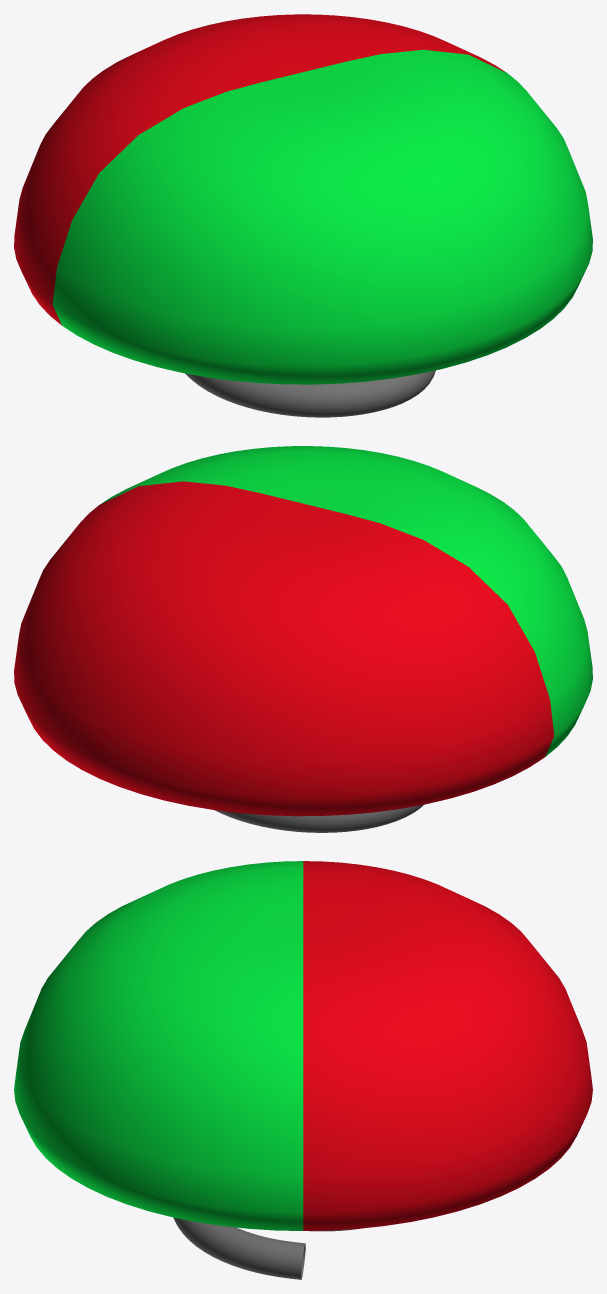
The model's file is spring.fbx.
3 views of the same model, one above another, from view 1: azimuth 30°, elevation 25°; view 2: azimuth 150°, elevation 25°; view 3: azimuth 270°, elevation 25° (orthographic).
Visible parts, largest first — view 1: Cylinder; view 2: Cylinder; view 3: Cylinder.
Part boxes in pixels (x1,y1,x2,y2): Cylinder: [14, 14, 592, 417]; Cylinder: [14, 446, 592, 832]; Cylinder: [14, 861, 592, 1279].
Bounding box in the file's own units: 70.39 × 41.66 × 70.39.
